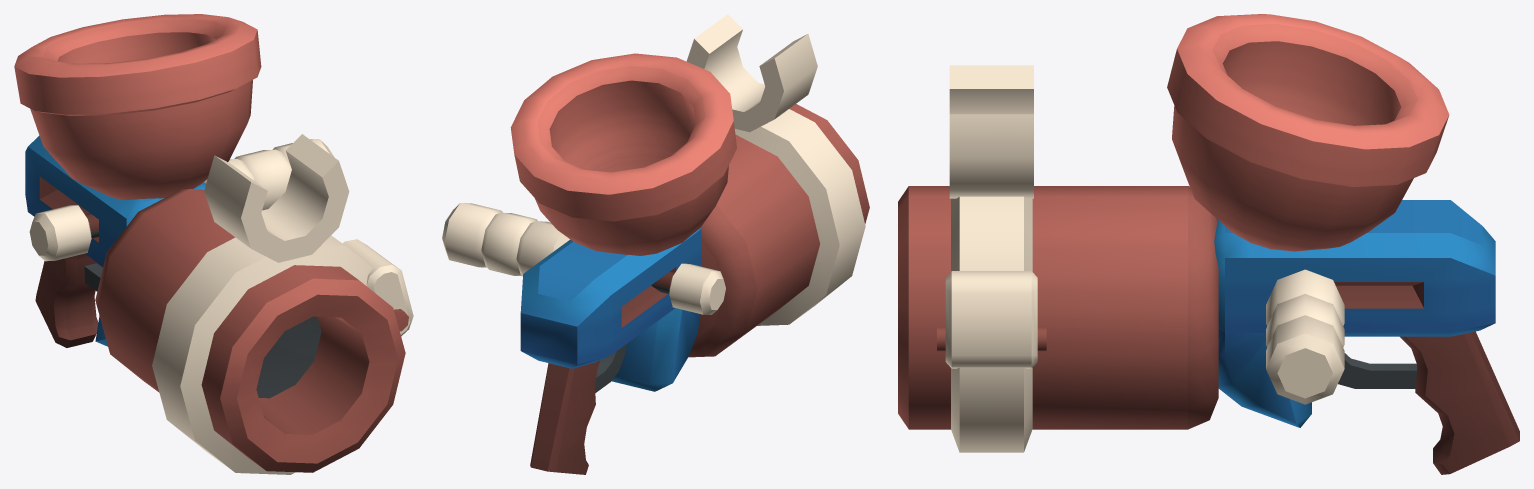
File: kk_holiday_corail_canon.glb
The picture shows the model from 3 angles, left to right: view 1: azimuth 30°, elevation 25°; view 2: azimuth 150°, elevation 25°; view 3: azimuth 270°, elevation 25°; orthographic projection. The views are drawn at different scales.
Visible parts, largest first — view 1: snowball_cannon; view 2: snowball_cannon; view 3: snowball_cannon.
Boxes of the visible parts, x1,y1,x2,y2 form: snowball_cannon: (14,14,413,474); snowball_cannon: (442,14,869,474); snowball_cannon: (898,14,1519,474).
Bounding box in the file's own units: 0.6016 × 0.714 × 0.9509.
1 material, 1 textured.
